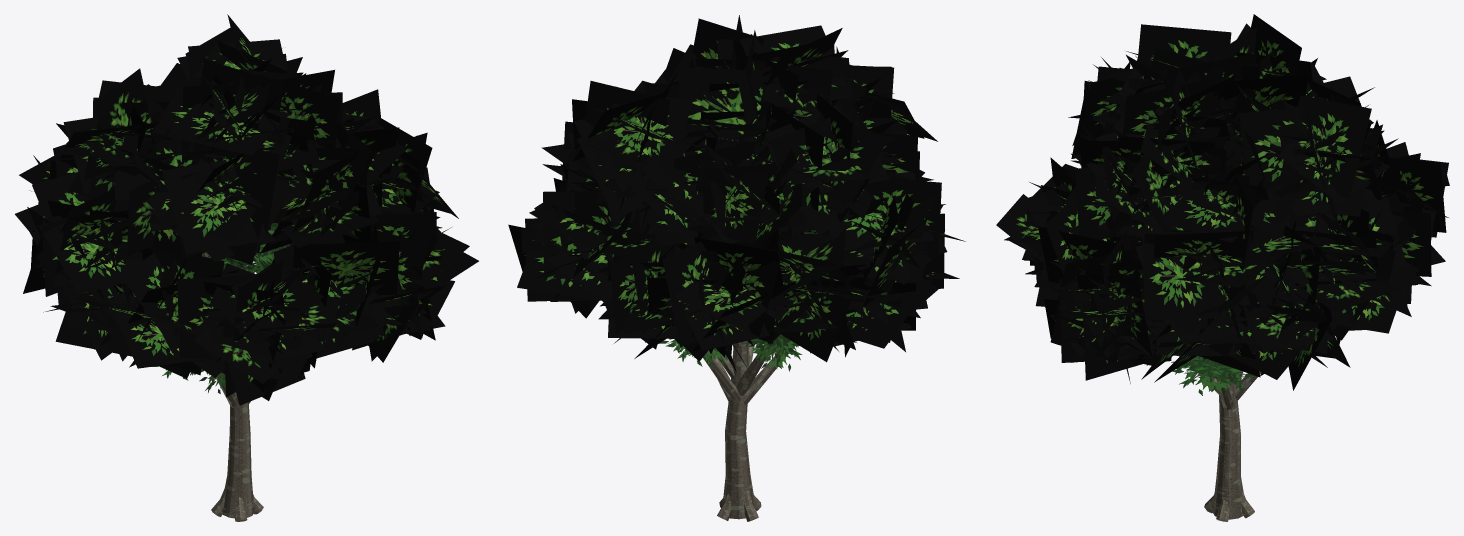
Rendered from pohon_rindang_super_besar.glb.
3 renders of one model, left to right at view 1: azimuth 30°, elevation 25°; view 2: azimuth 150°, elevation 25°; view 3: azimuth 270°, elevation 25°, orthographic.
Visible parts, largest first — view 1: Daun_Tajuk_Luar_Rindang, Batang_Dan_Cabang_Rindang, Daun_Dalam_Teduh_Rindang; view 2: Daun_Tajuk_Luar_Rindang, Batang_Dan_Cabang_Rindang, Daun_Dalam_Teduh_Rindang; view 3: Daun_Tajuk_Luar_Rindang, Batang_Dan_Cabang_Rindang, Daun_Dalam_Teduh_Rindang.
Part boxes in pixels (left/top/right/bottom): Daun_Tajuk_Luar_Rindang: left=15, top=14, right=478, bottom=405; Batang_Dan_Cabang_Rindang: left=202, top=244, right=289, bottom=521; Daun_Dalam_Teduh_Rindang: left=151, top=223, right=290, bottom=393; Daun_Tajuk_Luar_Rindang: left=508, top=15, right=965, bottom=373; Batang_Dan_Cabang_Rindang: left=703, top=340, right=794, bottom=521; Daun_Dalam_Teduh_Rindang: left=659, top=230, right=856, bottom=371; Daun_Tajuk_Luar_Rindang: left=996, top=14, right=1449, bottom=390; Batang_Dan_Cabang_Rindang: left=1189, top=360, right=1261, bottom=521; Daun_Dalam_Teduh_Rindang: left=1171, top=355, right=1254, bottom=396.
Bounding box in the file's own units: 9.91 × 11.3 × 10.05.
3 materials, 3 textured.
